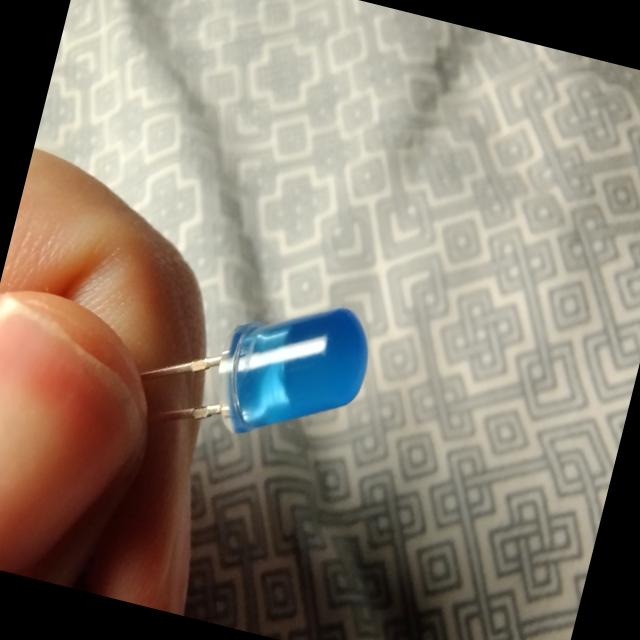blue_led: (132, 256, 392, 484)
